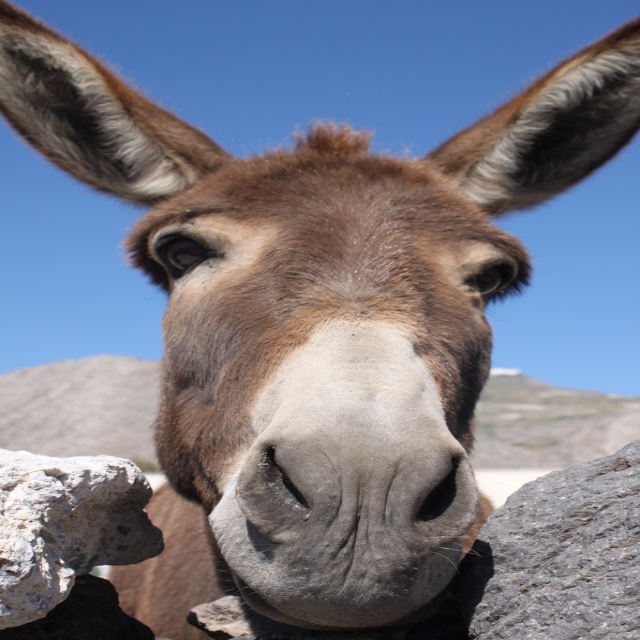Mule: (0, 4, 639, 640)
